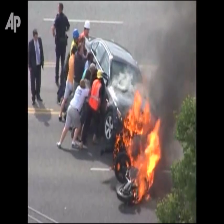fire_h: (122, 88, 163, 204)
fire_l: (113, 133, 121, 159), (125, 160, 129, 168), (117, 162, 120, 170)
